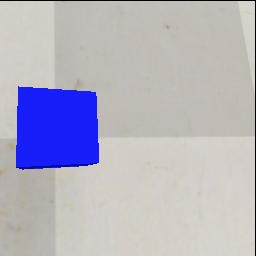box: (16, 86, 100, 169)
